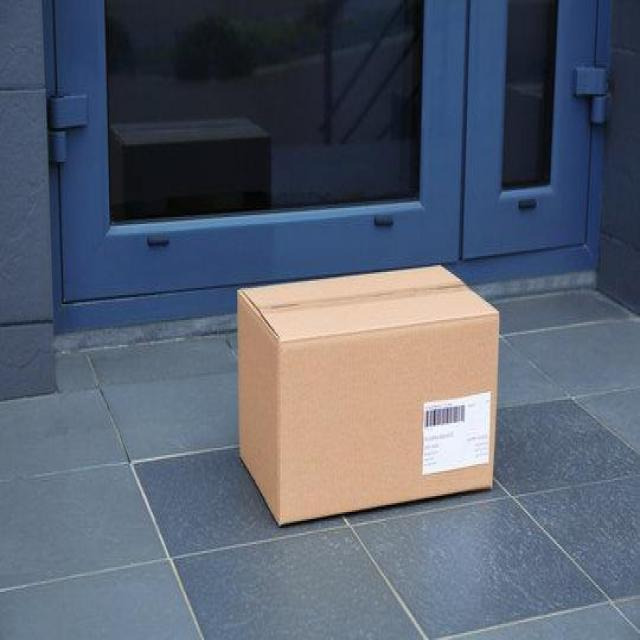box: (234, 261, 502, 530)
